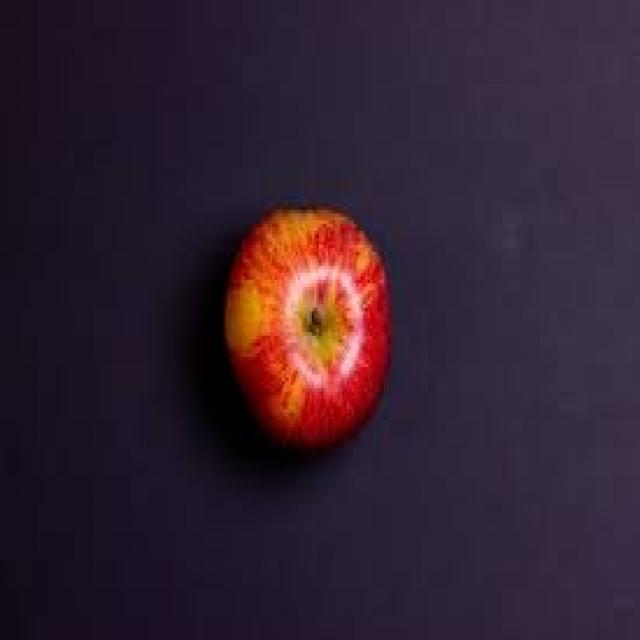Fresh Apple: (197, 202, 403, 463)
